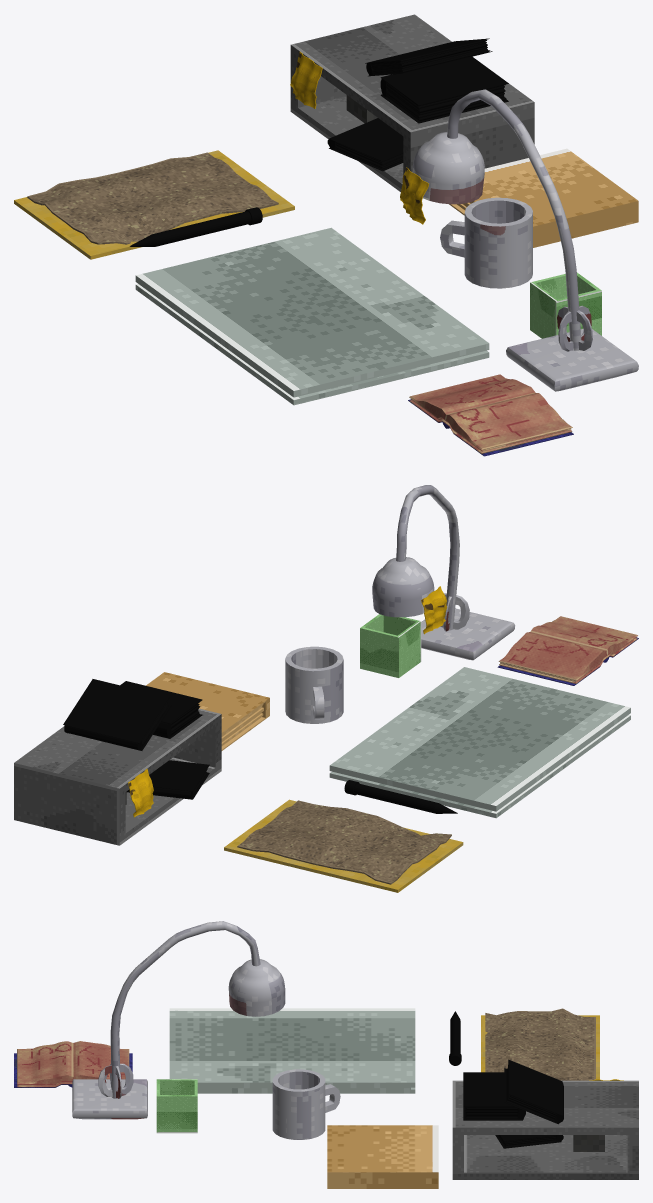
The model's file is Cose_Tavolo_Prof.fbx.
The picture shows the model from 3 angles, top to bottom: view 1: azimuth 30°, elevation 25°; view 2: azimuth 150°, elevation 25°; view 3: azimuth 270°, elevation 25°; orthographic projection. The views are drawn at different scales.
Visible parts, largest first — view 1: PC, Big_Box, Paper, Dvd_Holder, Book_Open1, cup, BOOK1, polySurface29, pCube55, polySurface28, Wood_Under_Paper, Small_Box (+5 smaller); view 2: PC, Big_Box, Paper, Book_Open1, BOOK4, cup, Dvd_Holder, Small_Box, Wood_Under_Paper, polySurface28, pCube55, polySurface29 (+5 smaller); view 3: PC, Big_Box, Dvd_Holder, Paper, cup, Book_Open1, polySurface29, polySurface28, BOOK4, pCube55, BOOK1, Small_Box (+4 smaller).
Part boxes in pixels (x1,y1,x2,y2): PC: (135, 227, 489, 405); Big_Box: (290, 14, 534, 191); Paper: (27, 152, 278, 244); Dvd_Holder: (449, 148, 638, 247); Book_Open1: (409, 374, 572, 453); cup: (440, 197, 532, 288); BOOK1: (380, 56, 508, 123); polySurface29: (447, 89, 592, 351); pCube55: (506, 328, 638, 391); polySurface28: (412, 132, 484, 204); Wood_Under_Paper: (14, 150, 294, 259); Small_Box: (530, 272, 601, 338); PC: (329, 667, 630, 818); Big_Box: (14, 708, 221, 845); Paper: (237, 800, 451, 884); Book_Open1: (498, 616, 637, 683); BOOK4: (63, 679, 171, 750); cup: (285, 646, 343, 723); Dvd_Holder: (146, 672, 269, 750); Small_Box: (360, 614, 421, 677); Wood_Under_Paper: (224, 799, 463, 892); polySurface28: (372, 557, 434, 617); pCube55: (421, 608, 515, 660); polySurface29: (396, 485, 469, 631); PC: (169, 1008, 415, 1093); Big_Box: (452, 1080, 638, 1179); Dvd_Holder: (327, 1125, 438, 1188); Paper: (485, 1008, 595, 1080); cup: (272, 1069, 340, 1139); Book_Open1: (17, 1041, 129, 1087); polySurface29: (98, 921, 260, 1098); polySurface28: (228, 959, 285, 1016); BOOK4: (504, 1059, 563, 1124); pCube55: (72, 1079, 147, 1119); BOOK1: (463, 1072, 525, 1120); Small_Box: (156, 1079, 197, 1133).
Size of the model in its own units: 4.83 by 2.42 by 7.48.
12 materials, 11 textured.
